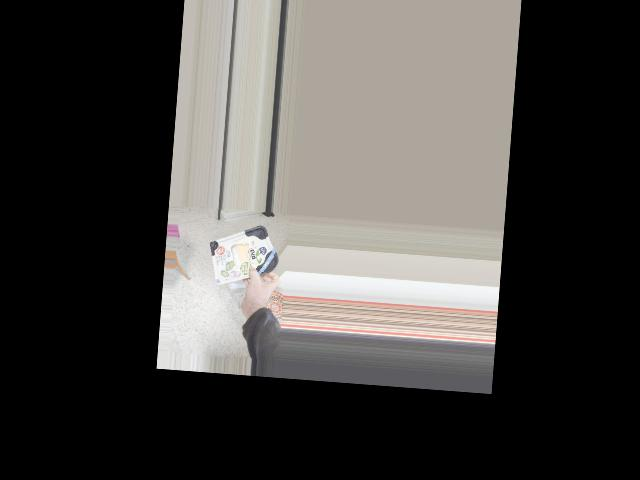cheese: (208, 226, 282, 278)
